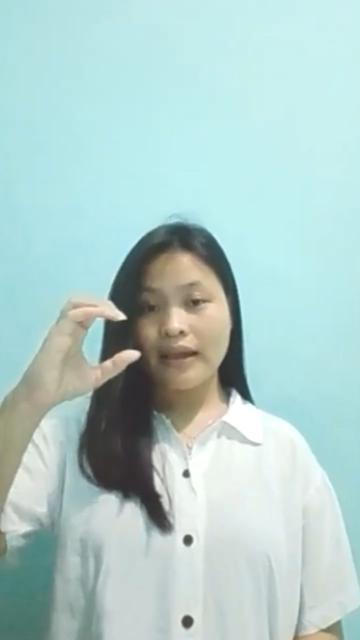C: (32, 292, 144, 412)
